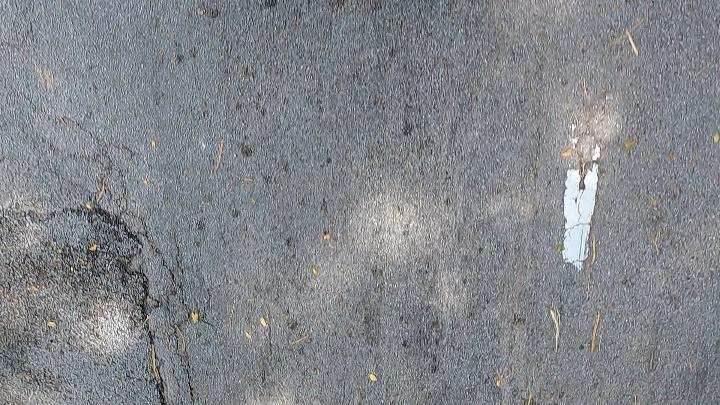Lane: (559, 155, 603, 268), (563, 163, 598, 269)
Pothole: (2, 205, 171, 405), (0, 208, 159, 404)
